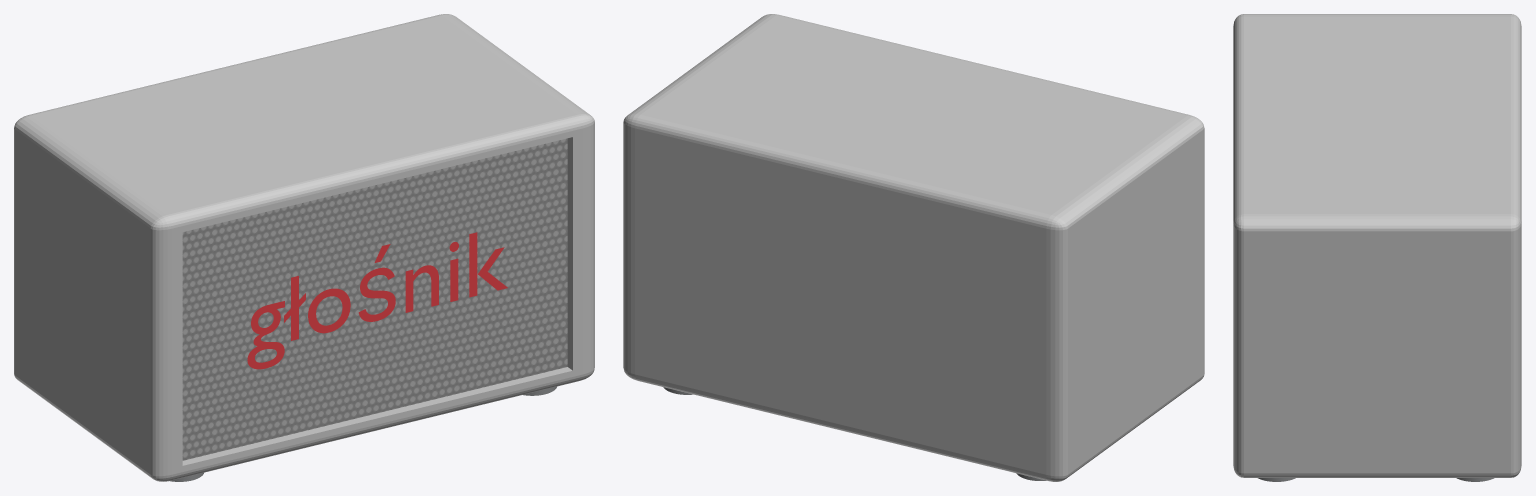
File: glosnik.fbx
3 renders of one model, left to right at view 1: azimuth 30°, elevation 25°; view 2: azimuth 150°, elevation 25°; view 3: azimuth 270°, elevation 25°, orthographic.
Parts seen in each view (by area): view 1: glosnik; view 2: glosnik; view 3: glosnik.
Part boxes in pixels (x1,y1,x2,y2): glosnik: (14,14,594,481); glosnik: (623,14,1204,481); glosnik: (1233,14,1521,481).
Bounding box in the file's own units: 45.86 × 27.25 × 26.23.
